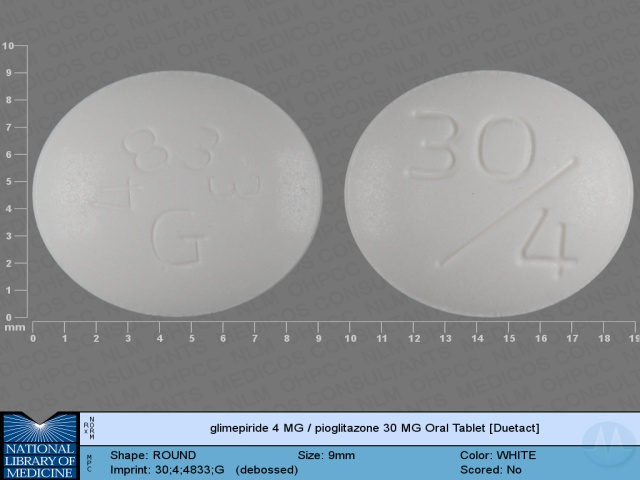3: (205, 172, 269, 206), (180, 121, 219, 173)
30/4: (403, 108, 590, 281)
4: (84, 177, 147, 217)
8: (117, 121, 172, 175)
G: (145, 204, 206, 269)
